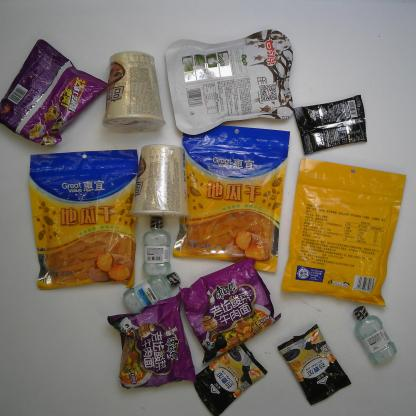Dried Fruit: (282, 159, 407, 307), (172, 118, 290, 273), (28, 148, 138, 290), (165, 28, 295, 136)
Instant Drink: (276, 324, 351, 406), (191, 342, 268, 416), (294, 94, 368, 155)
Instant Noodles: (0, 37, 111, 148), (179, 258, 282, 364), (107, 286, 196, 390), (102, 50, 166, 132), (126, 144, 190, 219)
Personal Hygiene: (354, 306, 397, 365), (124, 272, 180, 315), (142, 215, 172, 277)
